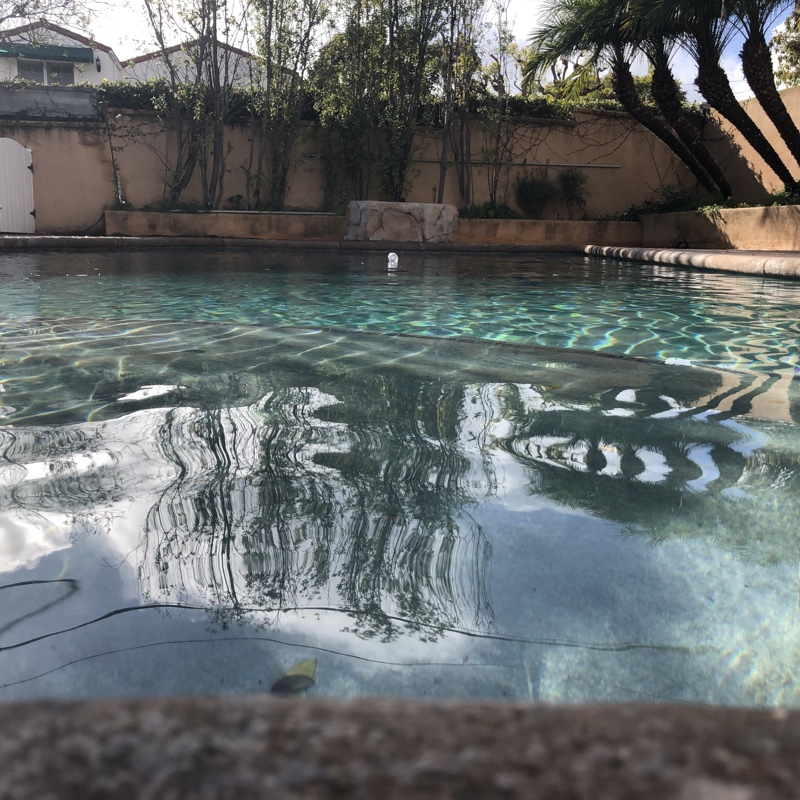Plastic Bottle: (386, 251, 397, 272)
